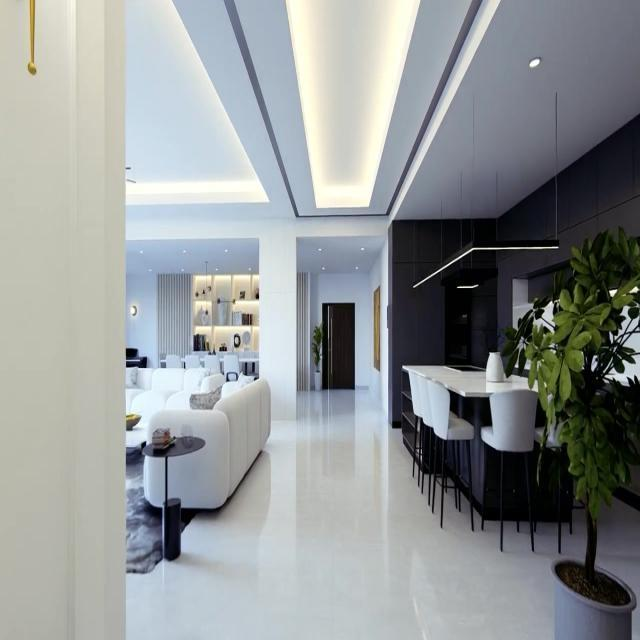door: (322, 302, 354, 390)
obstacle: (126, 370, 269, 510), (141, 434, 205, 560), (191, 272, 259, 372)
